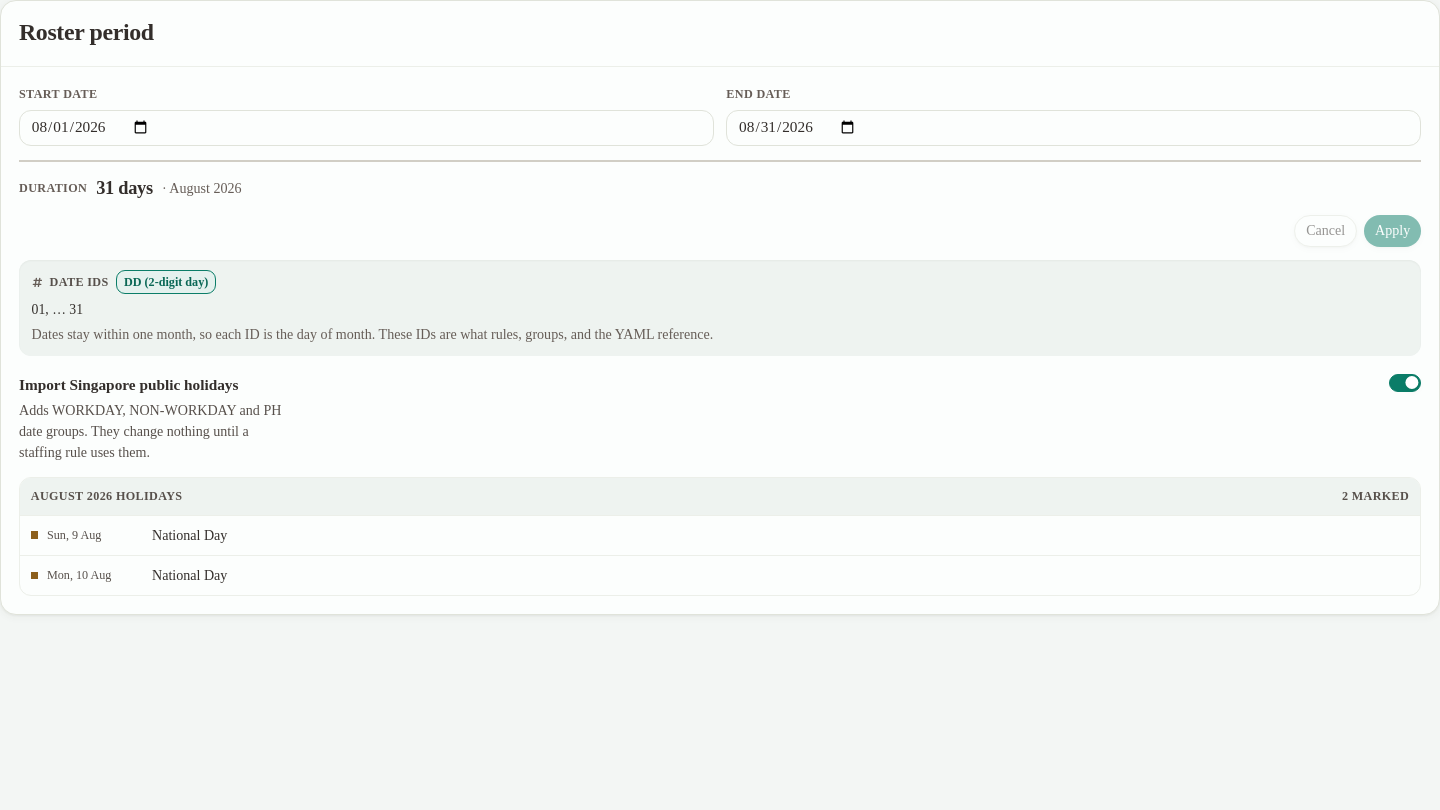
Test case: RosterPeriodCard — invalid/incomplete range feedback (VR-DC-03) › shows an error and does not commit when start > end
Type "2026-08-10" into the date field with test id "range-start".
click(366, 128); type("2026-08-10")  # box [19,110,714,146]
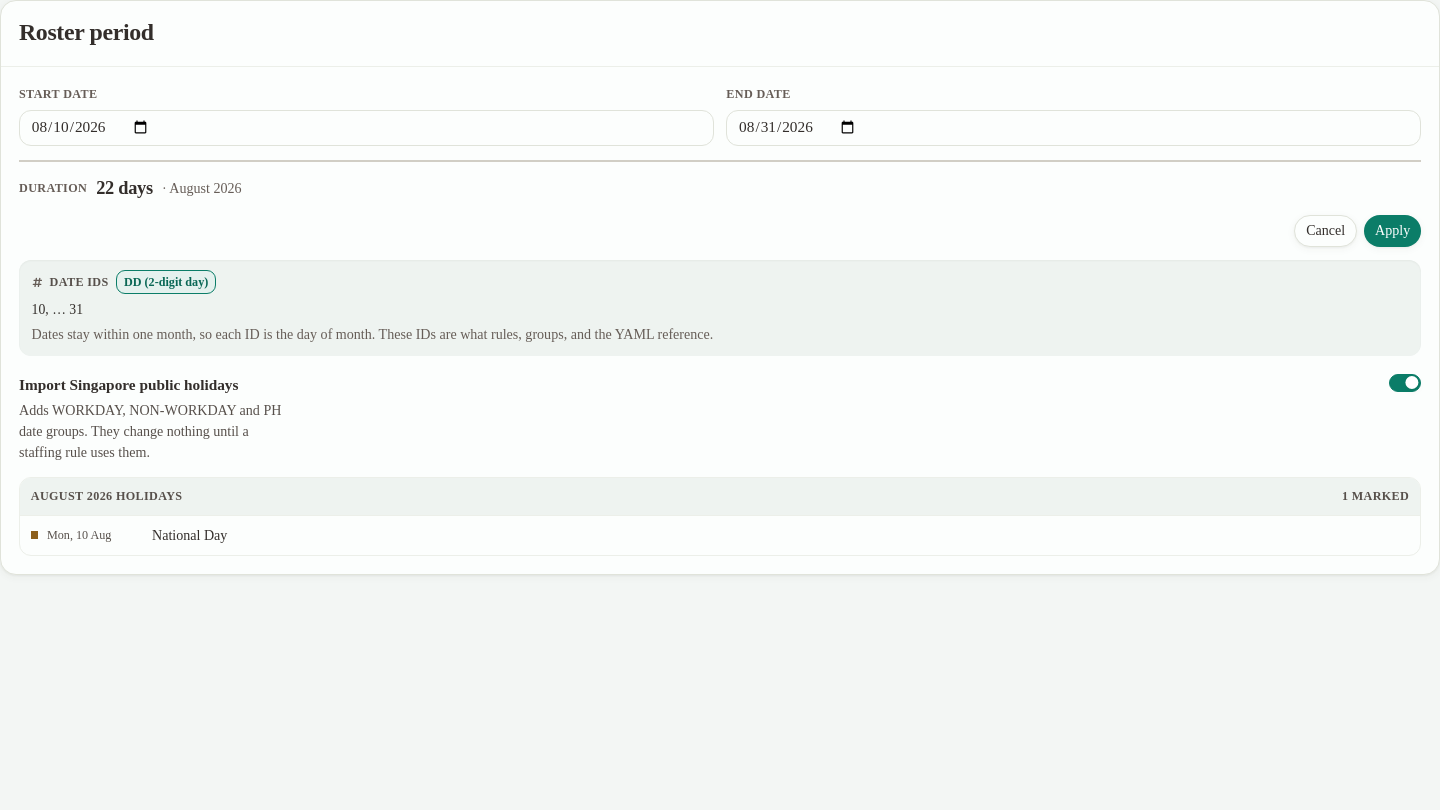
Type "2026-08-01" into the date field with test id "range-end".
click(1074, 128); type("2026-08-01")  # box [726,110,1421,146]
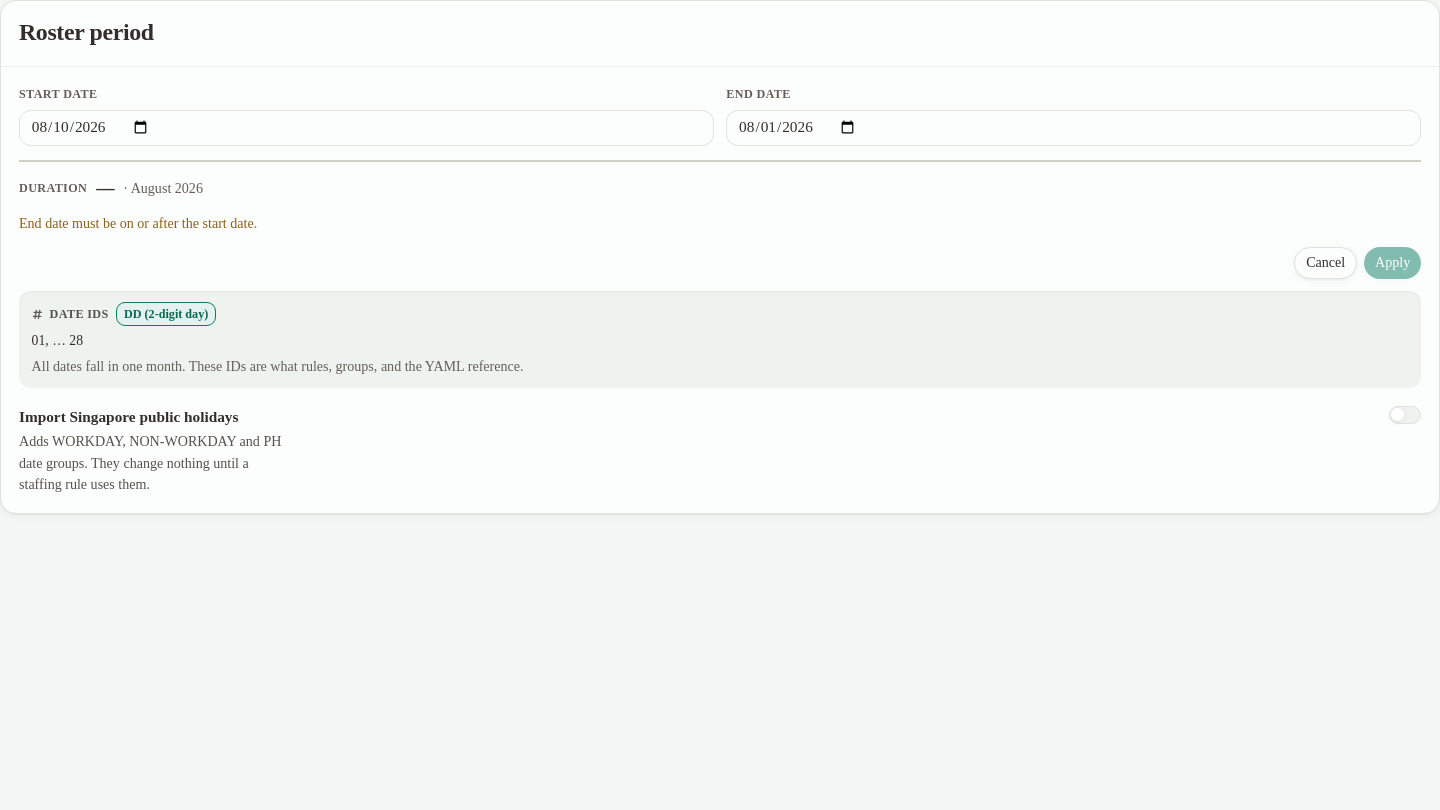
Check: the text with test id "range-invalid" reads "End date must be on or after the start date.", box [19,215,257,231]
Check: the button with test id "range-apply" is disabled, box [1364,247,1421,279]
Check: the element with test id "range-duration" no longer shows "day"
